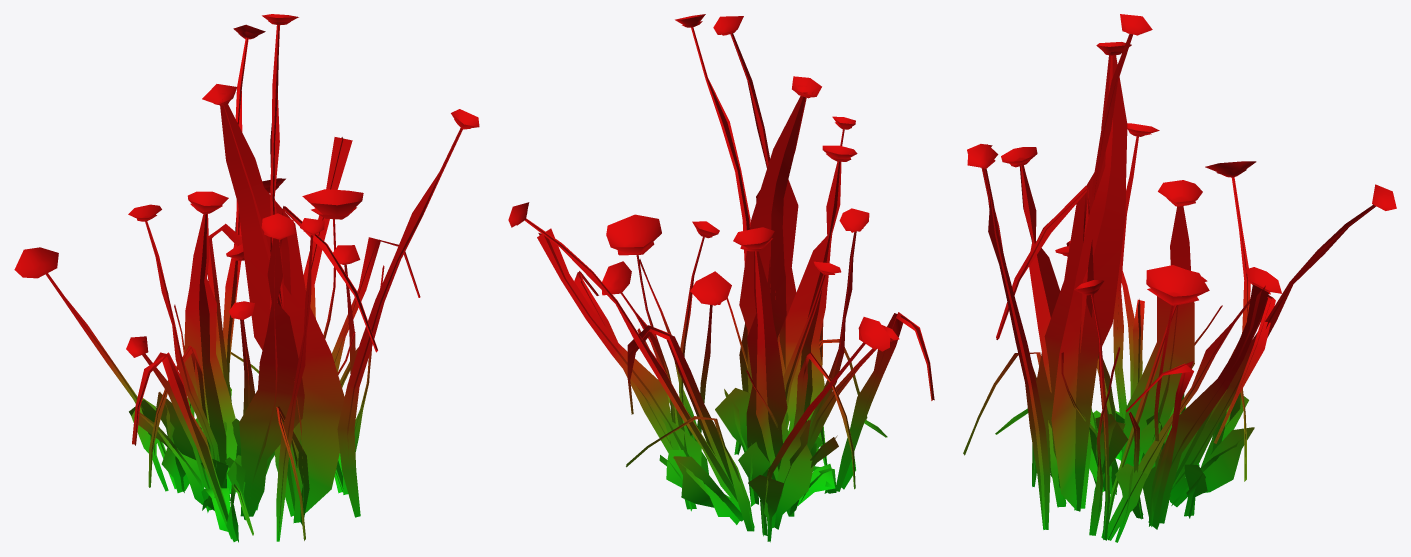
The model's file is White Everlasting_LOD1_Var3_ucvobbbia.fbx.
3 renders of one model, left to right at view 1: azimuth 30°, elevation 25°; view 2: azimuth 150°, elevation 25°; view 3: azimuth 270°, elevation 25°, orthographic. The views are drawn at different scales.
Parts seen in each view (by area): view 1: _e274_Var3_LOD1; view 2: _e274_Var3_LOD1; view 3: _e274_Var3_LOD1.
Part boxes in pixels (x1,y1,x2,y2): _e274_Var3_LOD1: (14,14,479,542); _e274_Var3_LOD1: (508,14,934,542); _e274_Var3_LOD1: (963,14,1396,542).
Size of the model in its own units: 45.8 by 61.65 by 48.11.
